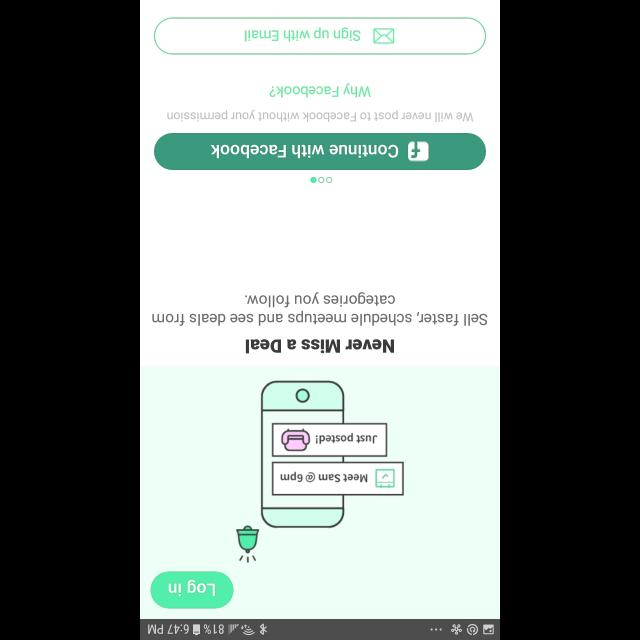image: (236, 381, 404, 564)
pageindicator: (310, 176, 332, 184)
text: (152, 292, 488, 326), (167, 110, 473, 122), (246, 338, 394, 354), (270, 82, 370, 98)
textbutton: (154, 17, 486, 55), (154, 132, 486, 170), (150, 571, 234, 609)
uppertaskbar: (140, 618, 500, 640)
